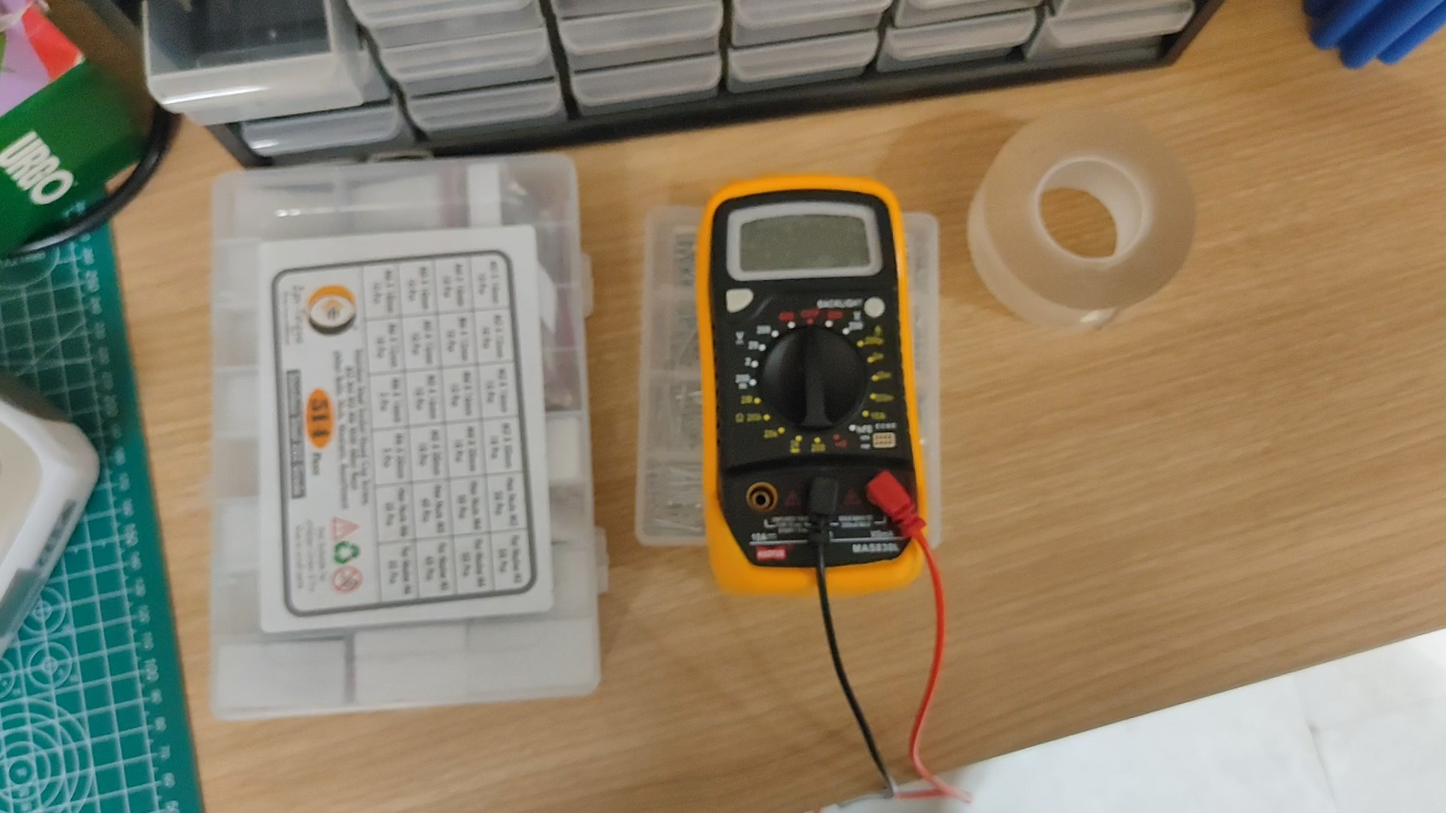multimeter: (695, 175, 937, 784)
